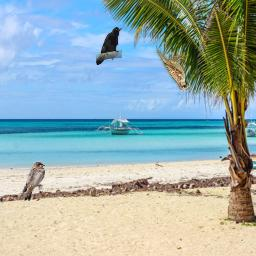Crow: (96, 27, 122, 65)
Sparrow: (157, 50, 189, 90)
Swallow: (22, 161, 45, 201)
